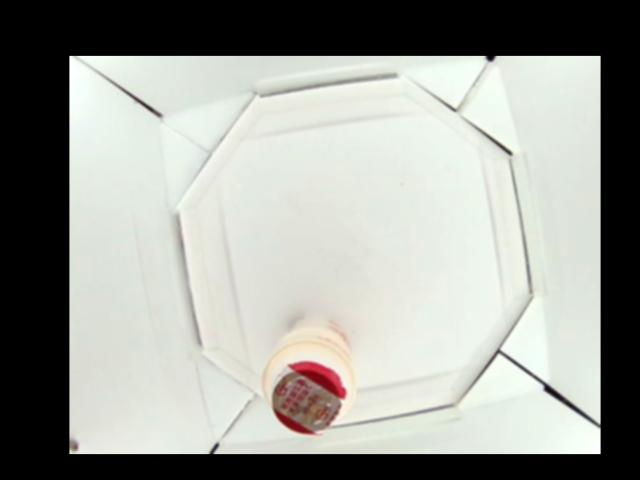Bottle: (261, 317, 354, 437)
